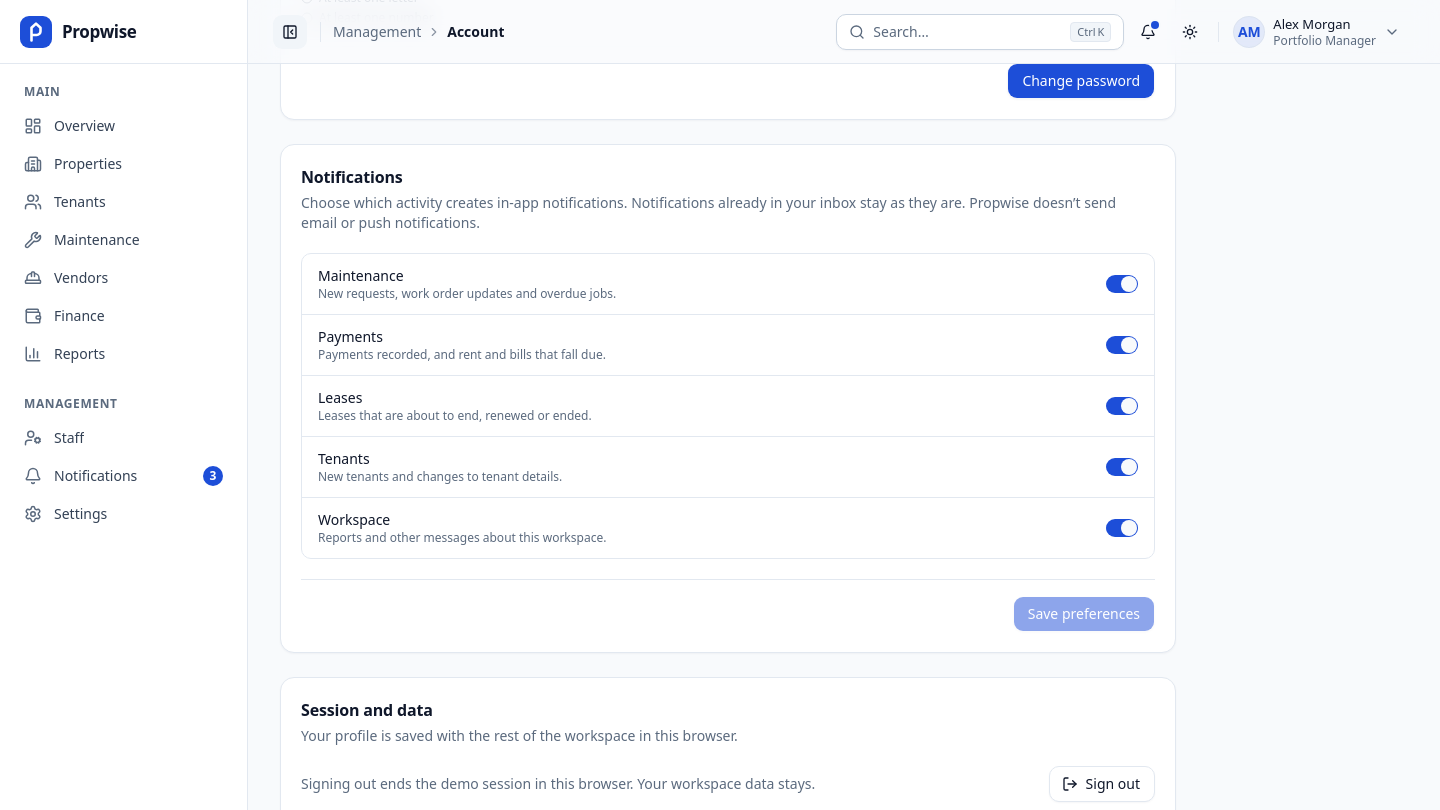
Scenario: Account page › saves notification preferences
This screenshot has width=1440, height=810.
(page scrolled)
Click the 3rd switch named "Leases" at (1122, 406), box left=1106, top=397, right=1138, bottom=415
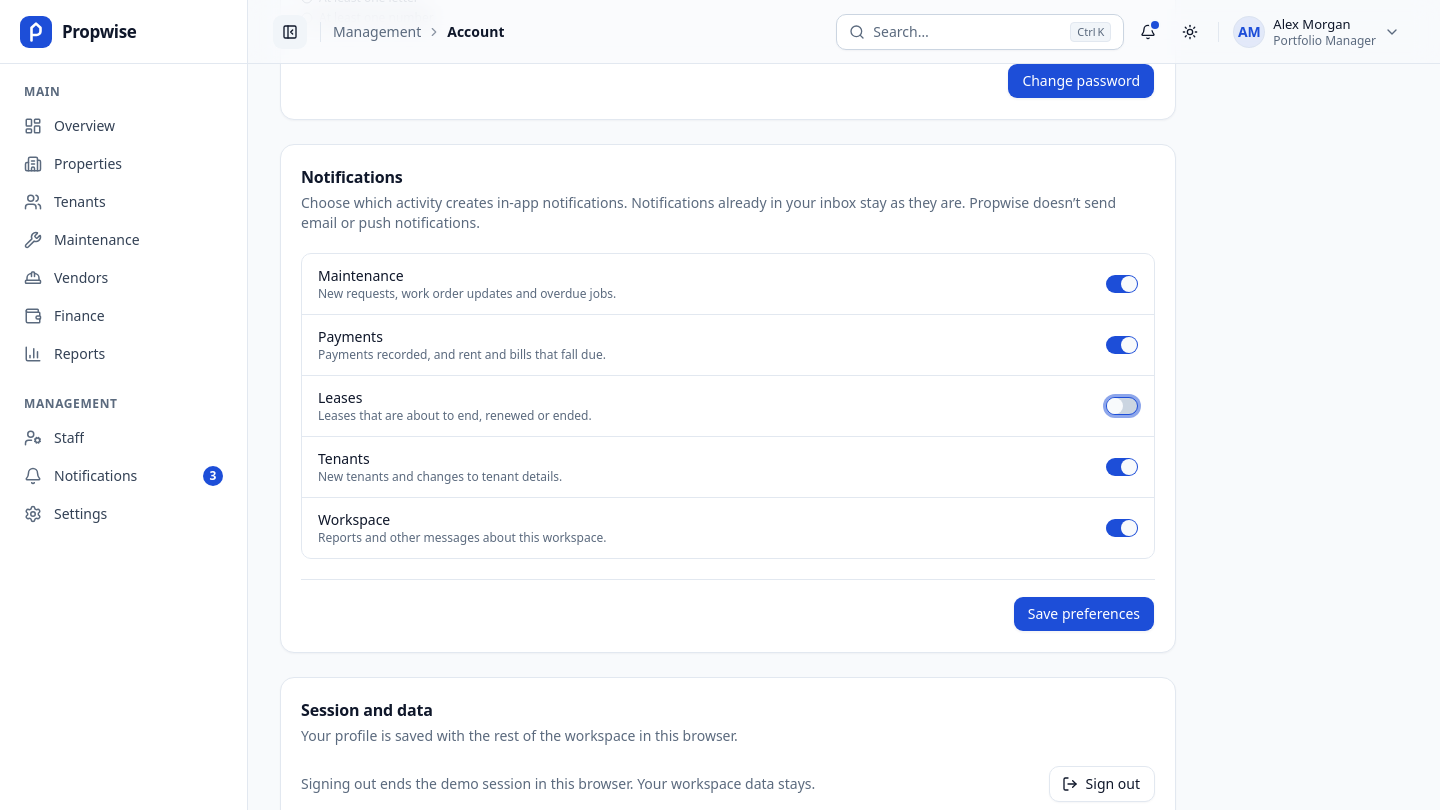
Click the button "Save preferences" at (1084, 614), box left=1013, top=596, right=1155, bottom=632
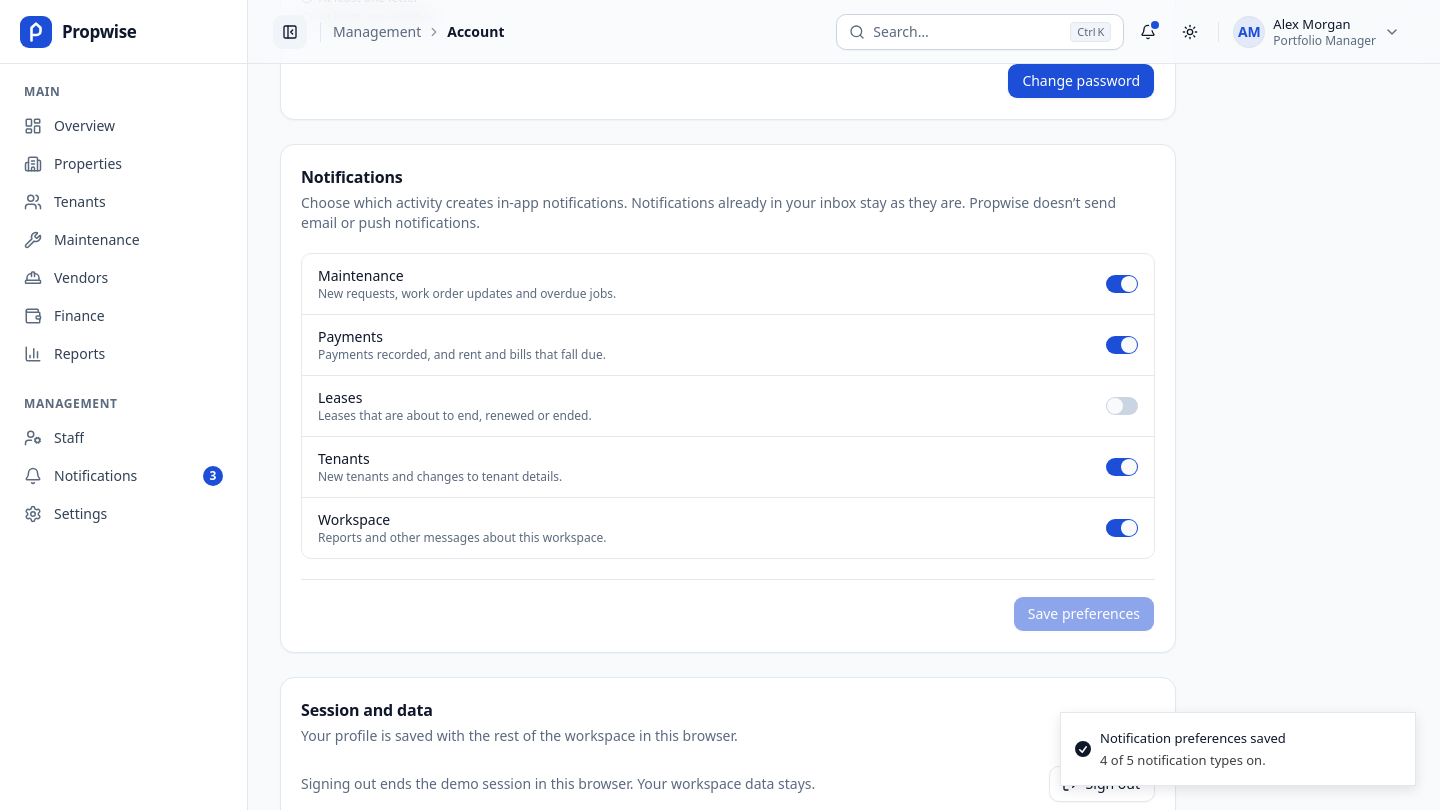
Expected: the button "Save preferences" is disabled, left=1013, top=596, right=1155, bottom=632
